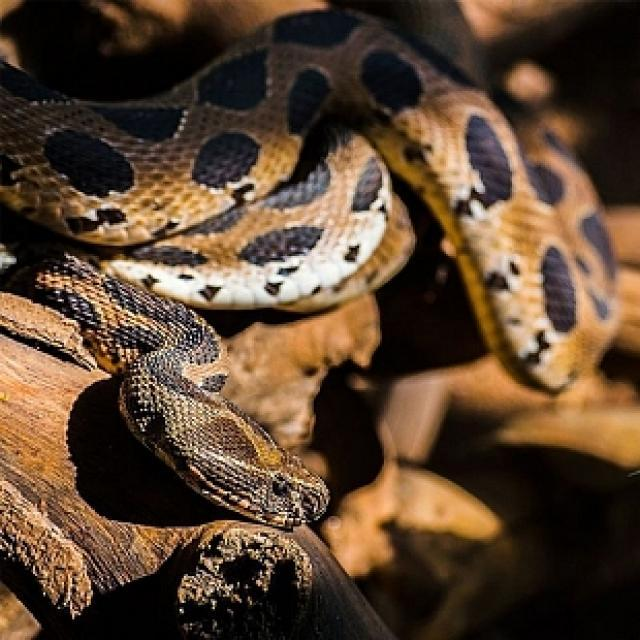Snake: (0, 0, 631, 522)
